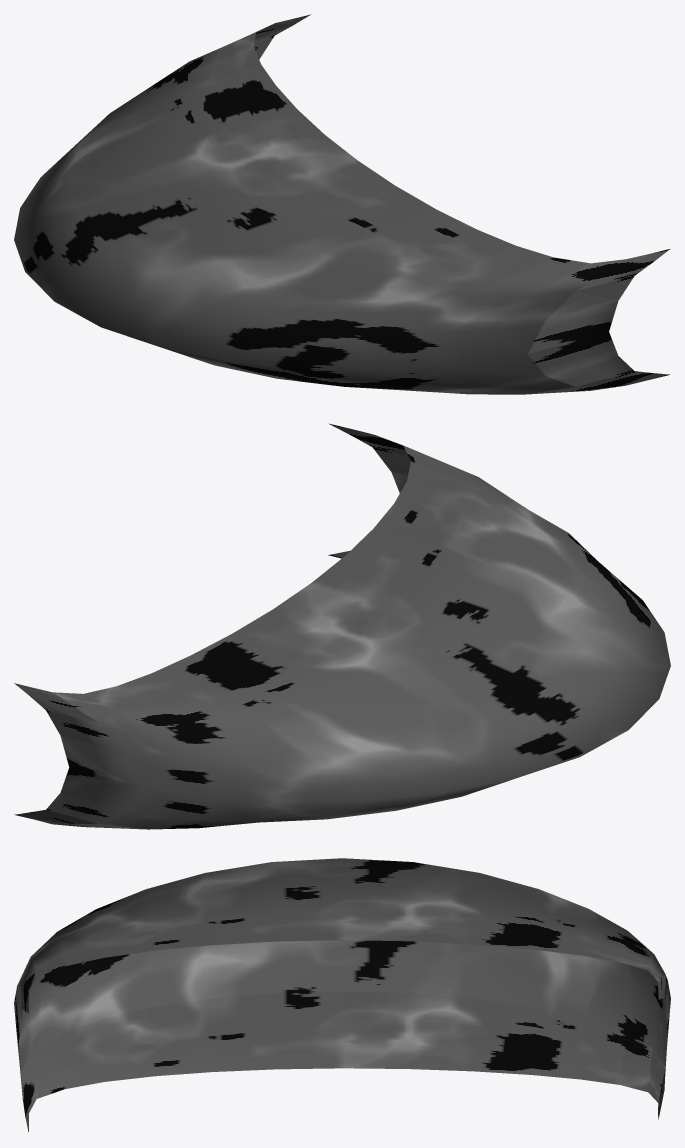
The model's file is daofeng05.FBX.
3 views of the same model, one above another, from view 1: azimuth 30°, elevation 25°; view 2: azimuth 150°, elevation 25°; view 3: azimuth 270°, elevation 25° (orthographic). The views are drawn at different scales.
Visible parts, largest first — view 1: Sphere002; view 2: Sphere002; view 3: Sphere002.
Boxes of the visible parts, left/top/right/bottom form: Sphere002: left=14, top=14, right=669, bottom=394; Sphere002: left=14, top=423, right=670, bottom=829; Sphere002: left=14, top=858, right=670, bottom=1131.
Size of the model in its own units: 23.02 by 6.53 by 30.35.
